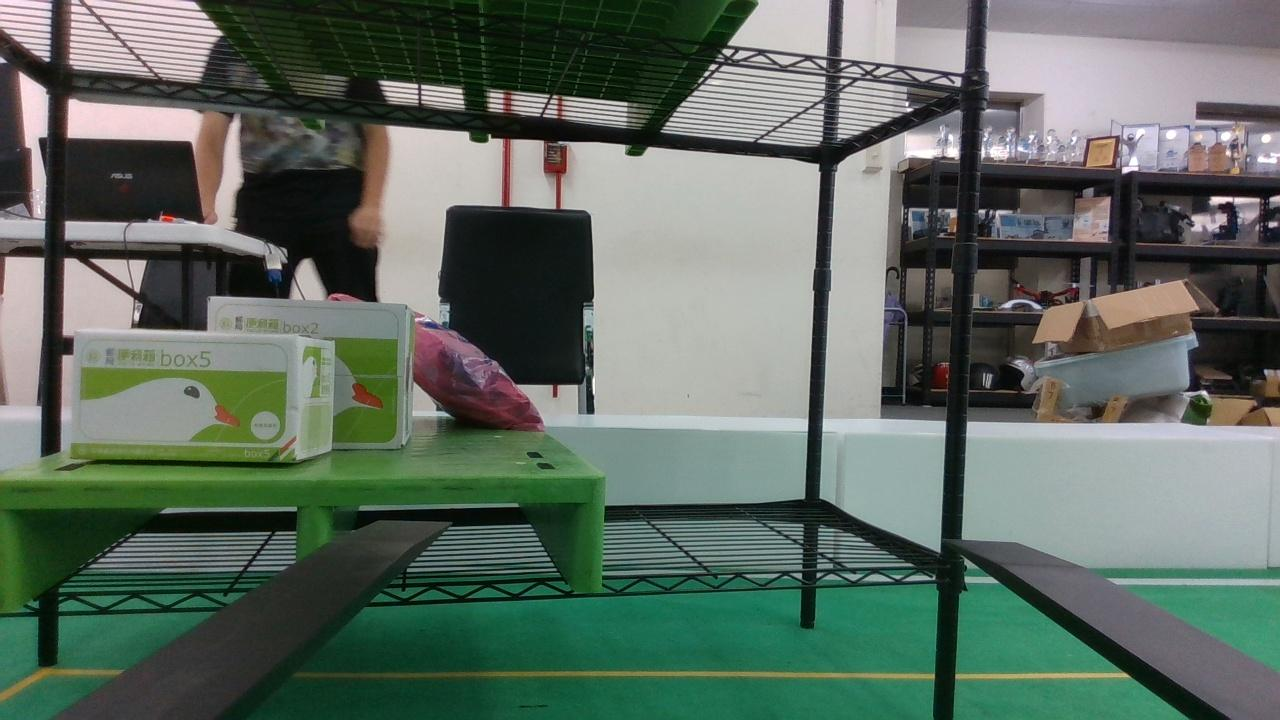Pallet: (0, 471, 607, 615)
